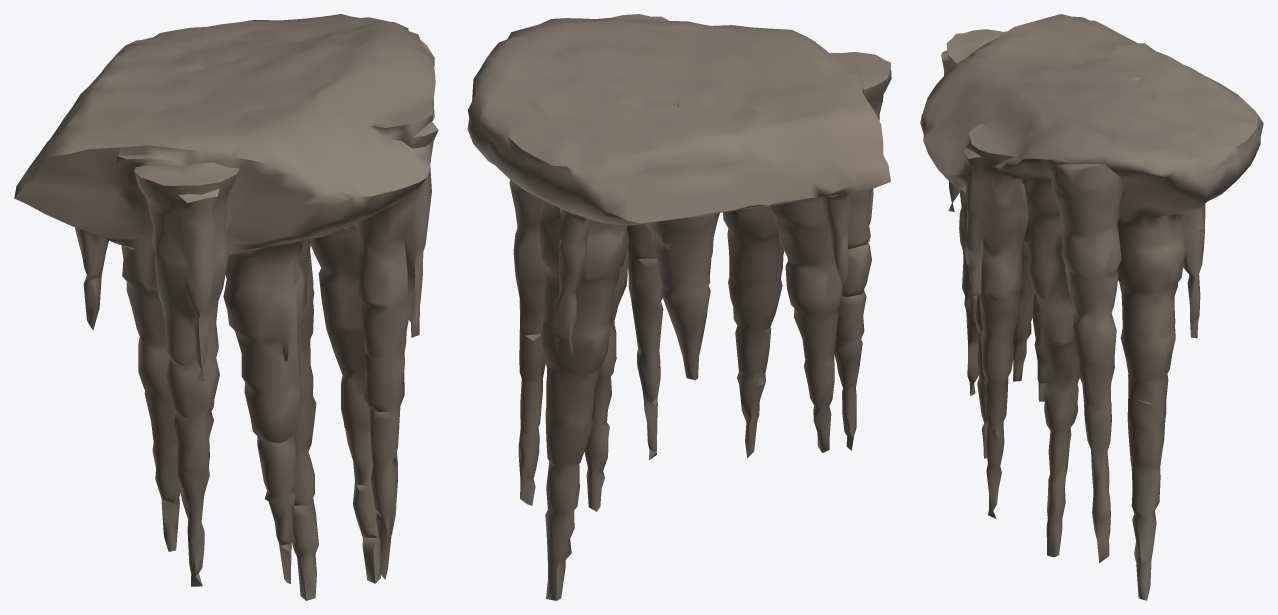
File: stalactite_cluster_b.4e77751c.glb
The picture shows the model from 3 angles, left to right: view 1: azimuth 30°, elevation 25°; view 2: azimuth 150°, elevation 25°; view 3: azimuth 270°, elevation 25°; orthographic projection. The views are drawn at different scales.
Visible parts, largest first — view 1: stalactite_cluster_b; view 2: stalactite_cluster_b; view 3: stalactite_cluster_b.
Boxes of the visible parts, left/top/right/bottom form: stalactite_cluster_b: left=14, top=14, right=438, bottom=600; stalactite_cluster_b: left=467, top=14, right=891, bottom=600; stalactite_cluster_b: left=920, top=14, right=1263, bottom=600.
Size of the model in its own units: 1.06 by 1.41 by 0.906.
